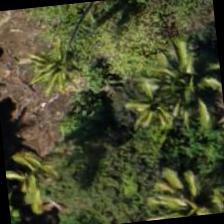Kelapa_Sawit: (141, 35, 223, 134)
